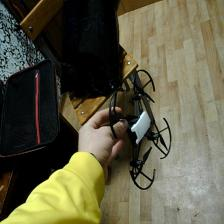drone: (105, 67, 176, 195)
